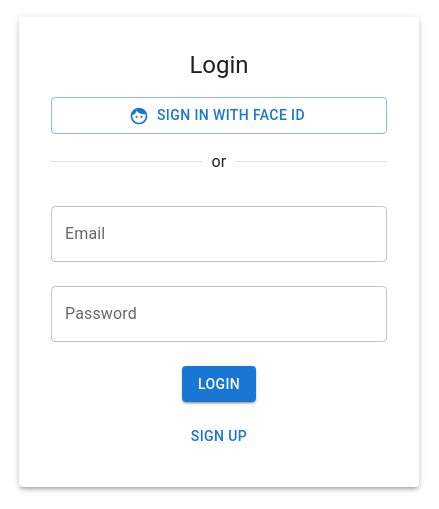
Test: Login — manual Face ID button › hides the button and explains itself when the server rejects a stale credential (e.g. removed from another device)
Click the button "Sign in with Face ID" at (219, 116), box top-left (51, 97), bottom-right (387, 134)
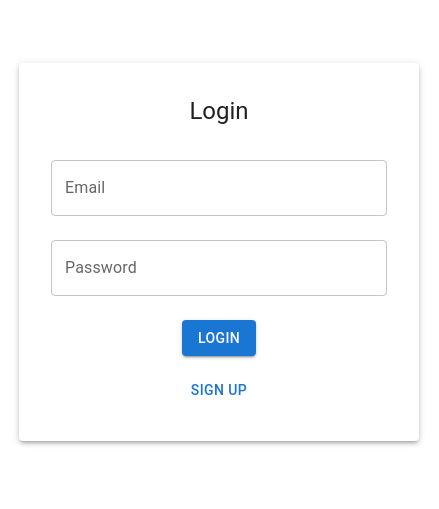
Check: the button "Sign in with Face ID" is gone
